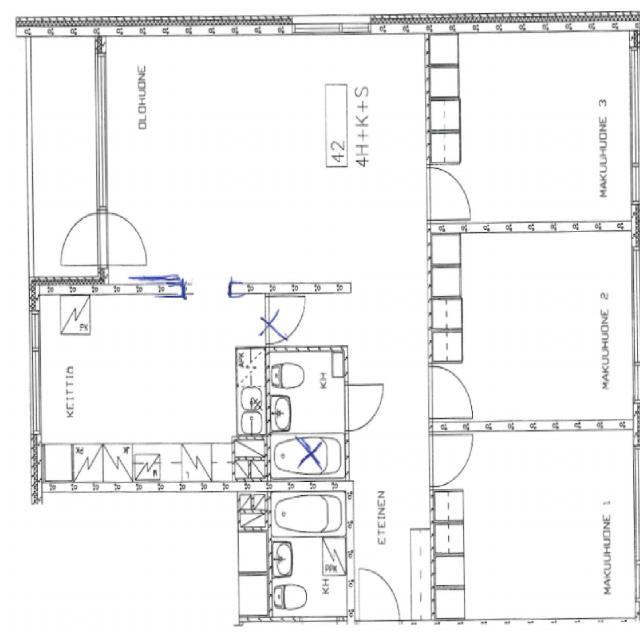door: (358, 563, 401, 633), (54, 212, 108, 265), (95, 212, 148, 265), (428, 434, 474, 486), (428, 166, 474, 218), (428, 366, 474, 417), (346, 384, 385, 430)
